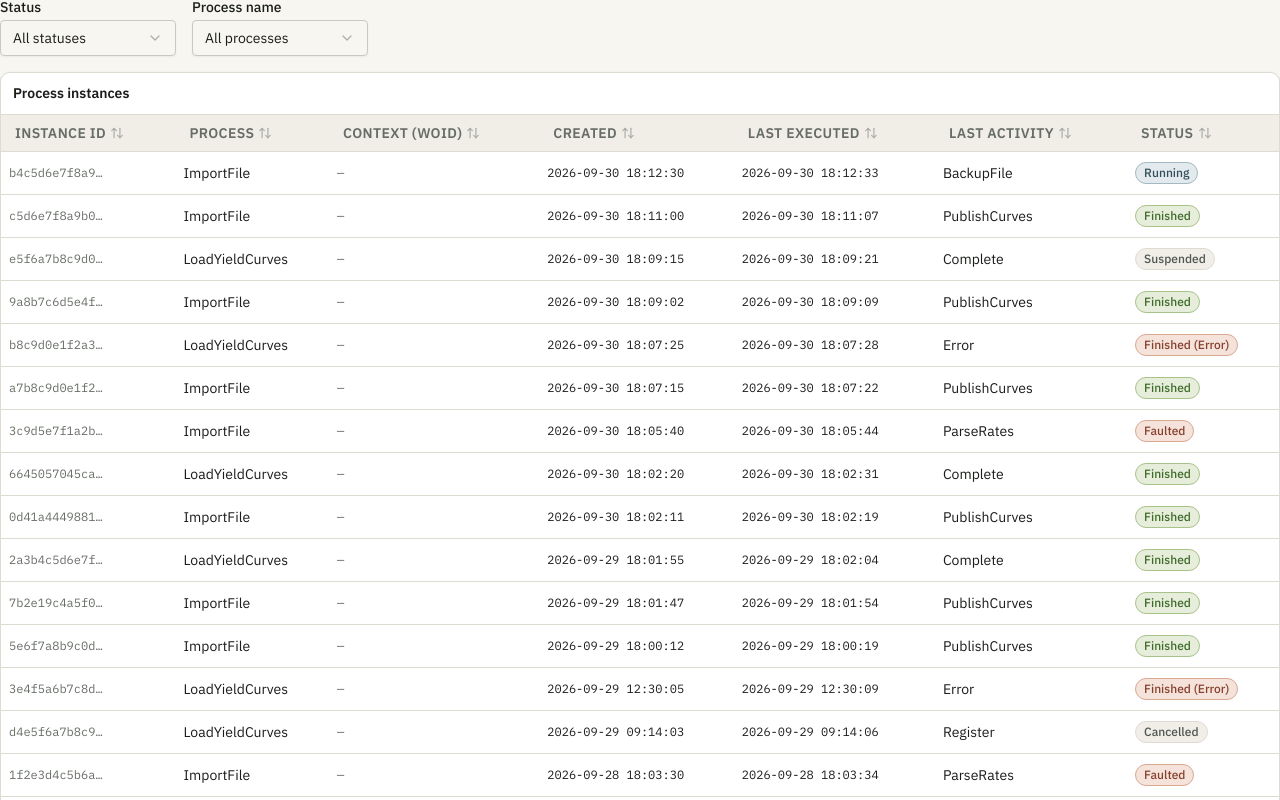
Test: Epic workflow-monitor-and-api, Story 8: Workflow monitor refinements › offers "Finished (Error)" in place of "Faulted" and, when chosen, lists only runs that finished with last activity Error
Click the dropdown labelled "status": (88, 38) x1=0 y1=20 x2=176 y2=56
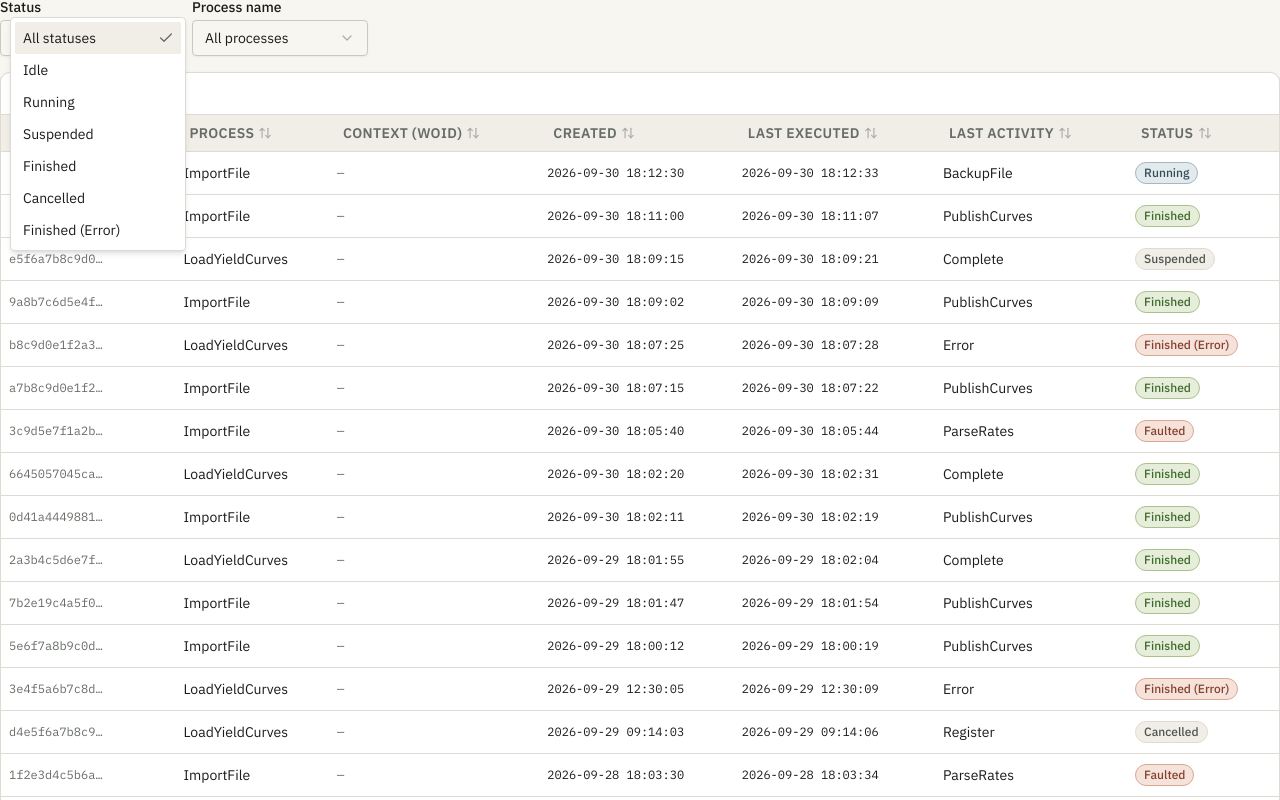
Click the option "Finished (Error)": (72, 230) x1=23 y1=221 x2=120 y2=239
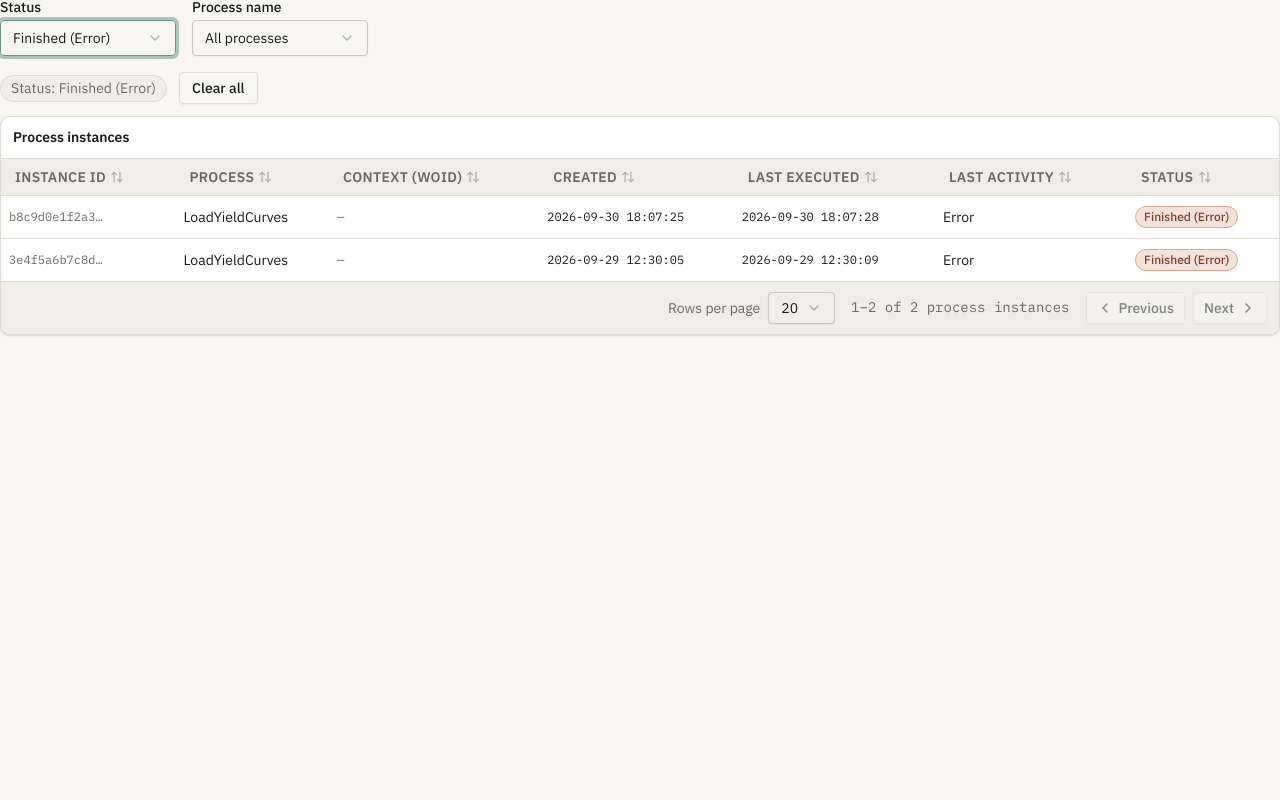
Expected: the list item "Status: Finished (Error)" is shown, x1=0 y1=74 x2=167 y2=102
